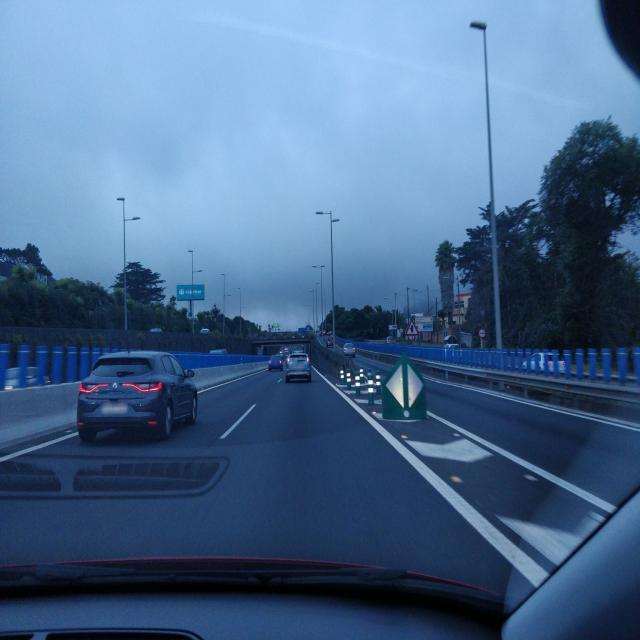car: (76, 349, 198, 443), (285, 352, 312, 383), (268, 354, 284, 372), (342, 342, 356, 356), (208, 348, 228, 356)
